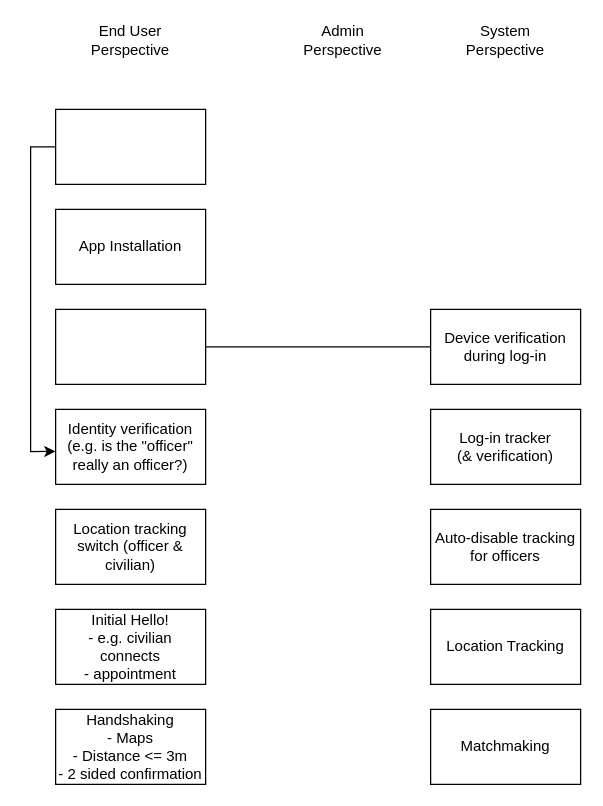
This 603x806 diagram has some shape labels left out. Each missing label, with the box of its shape:
Identy & device "matching": (54, 308, 206, 384)
Registration: (54, 108, 206, 184)
